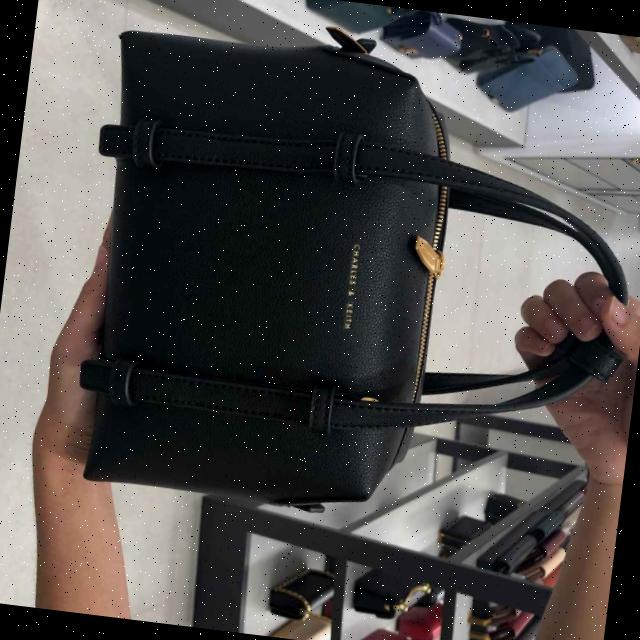Handbag: (57, 20, 640, 555)
